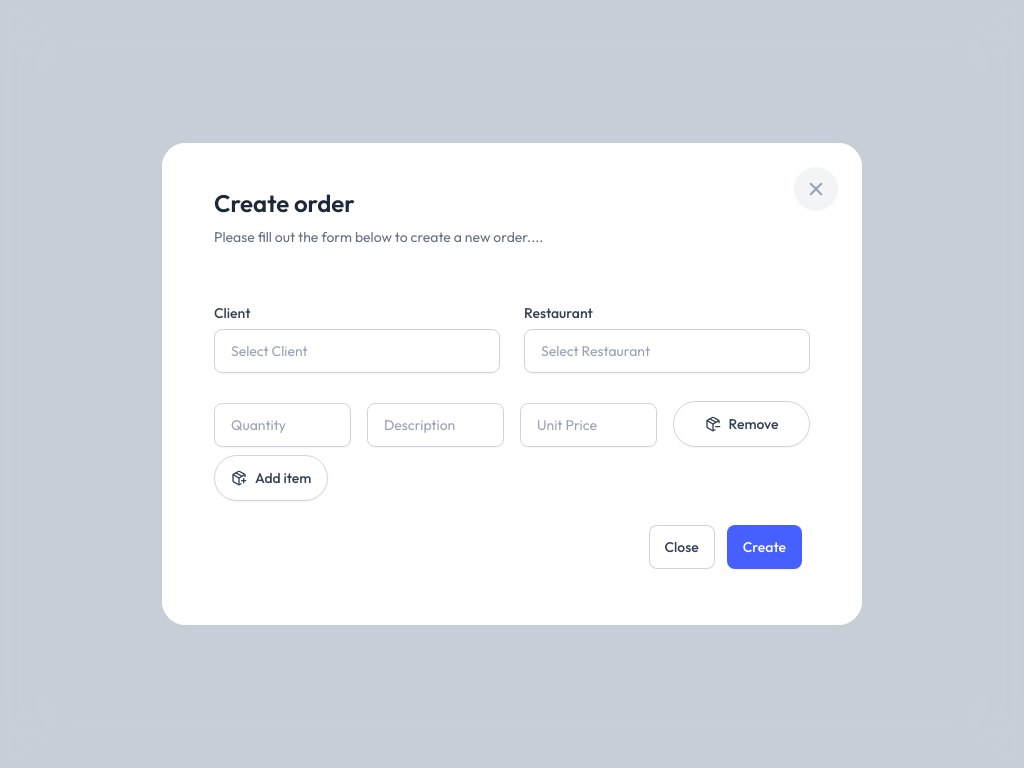
Test: OrderModal › should add and remove items
Click the button "Add item": coordinates (271, 478) [214, 455, 328, 501]
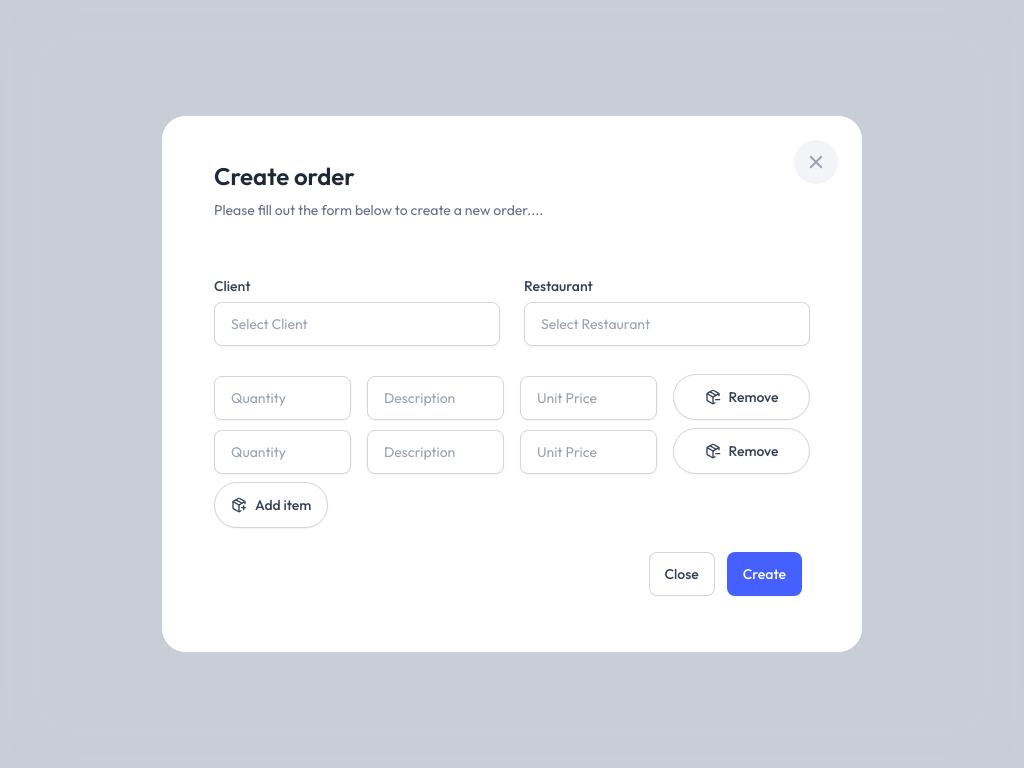
Expected: the number of number fields with placeholder "Quantity" is 2, [214, 376, 351, 420]; [214, 430, 351, 474]
Eliminar ítem
Click the 1st button "Remove": coordinates (742, 397) [673, 374, 810, 420]
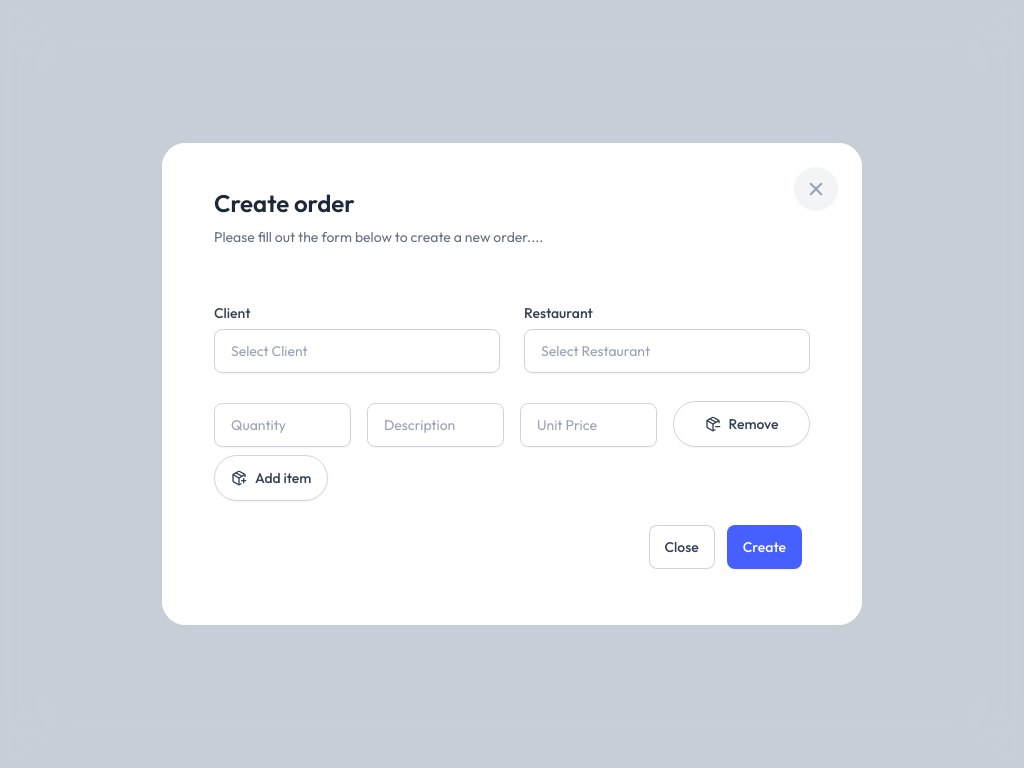
Expected: the number of number fields with placeholder "Quantity" is 1, [214, 403, 351, 447]
